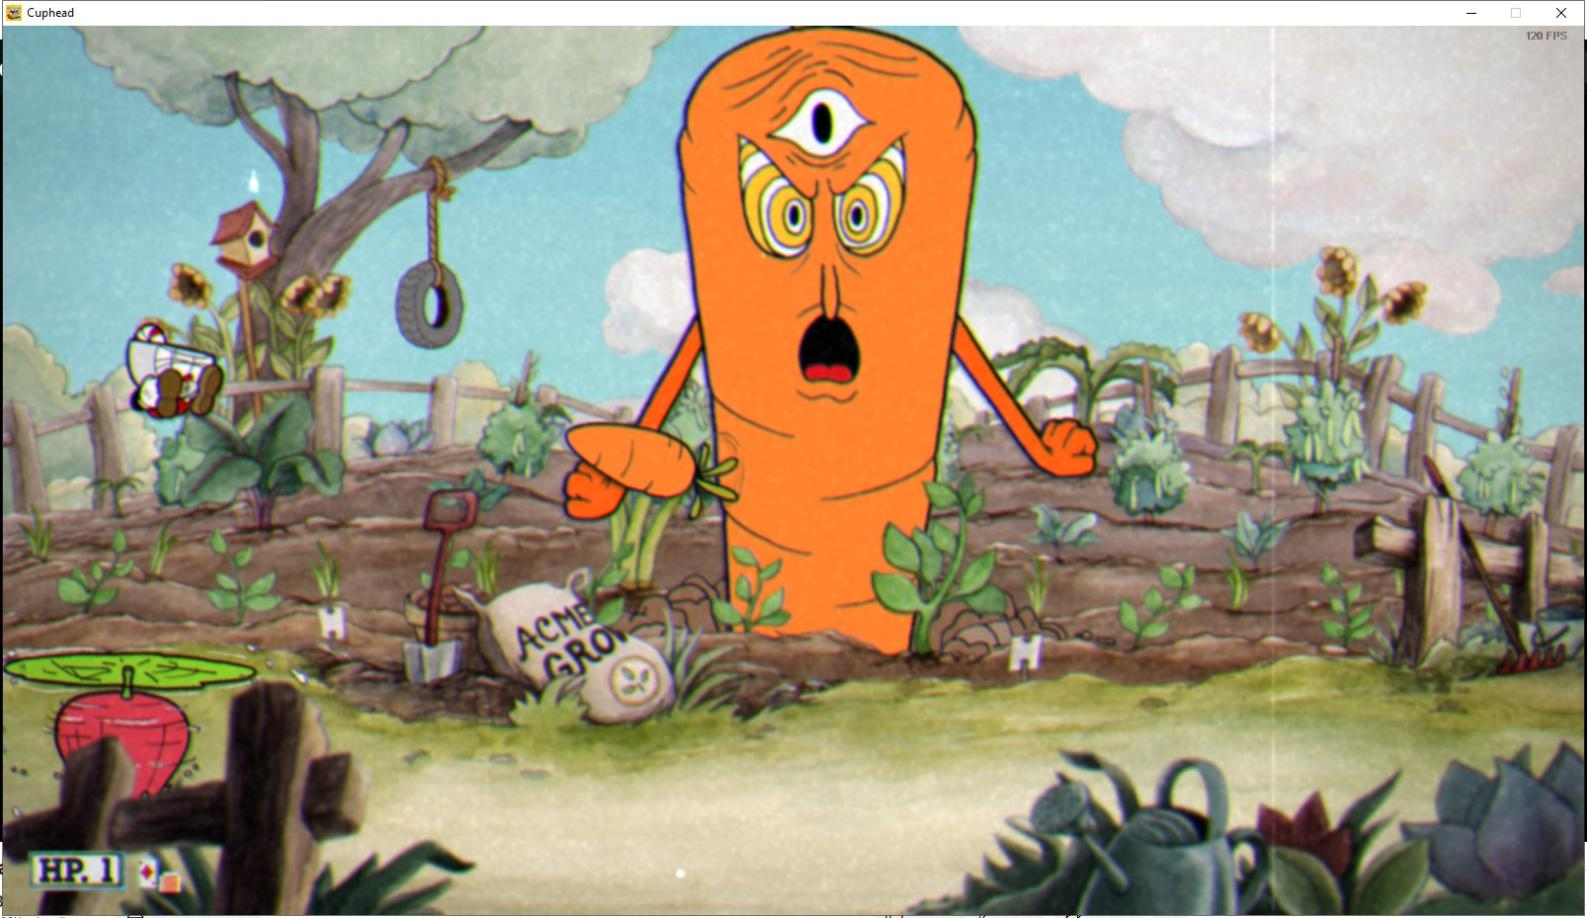carrot: (540, 401, 750, 525)
hp1: (93, 851, 123, 889)
player: (117, 315, 234, 428)
